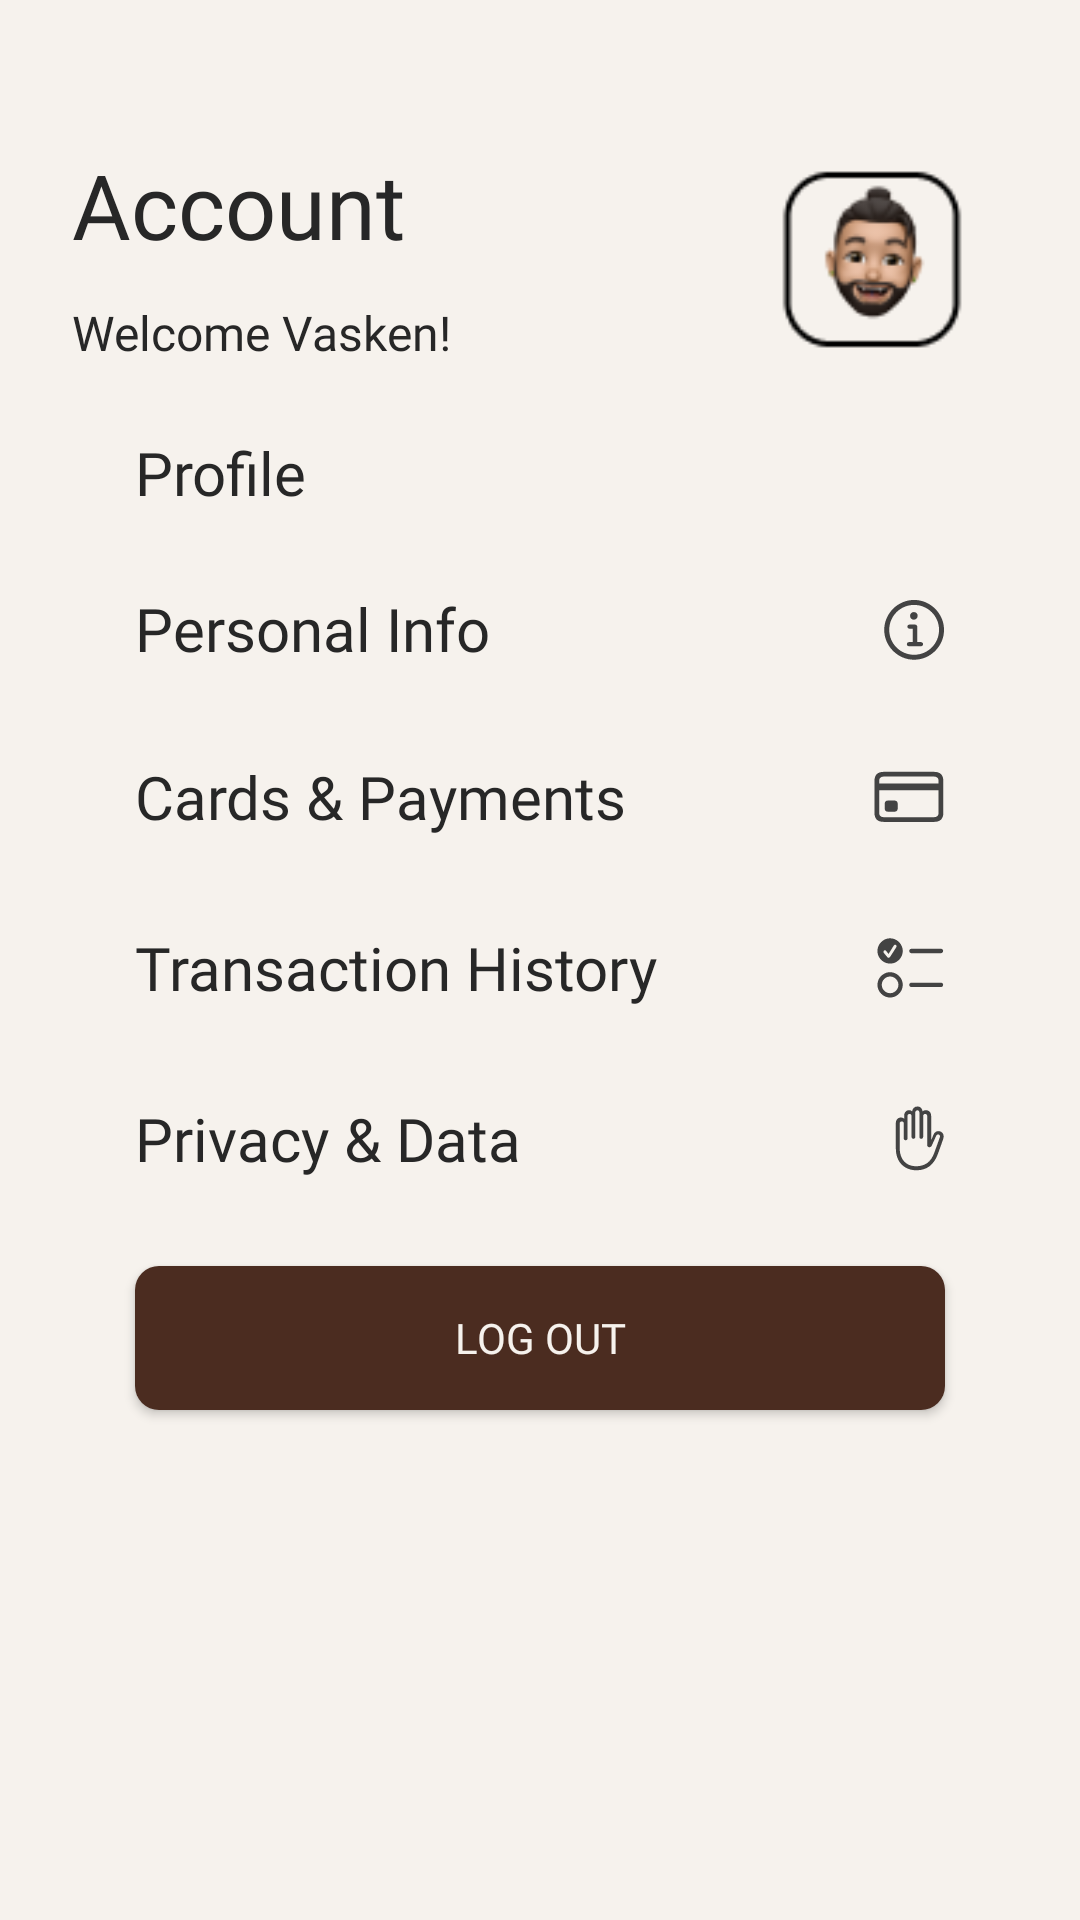

Where to tap for icons on this 1080x1920 app screen, as (x=x, y=y):
cards: (x=909, y=796)
info: (x=914, y=630)
pridata: (x=919, y=1138)
transaction: (x=910, y=968)
